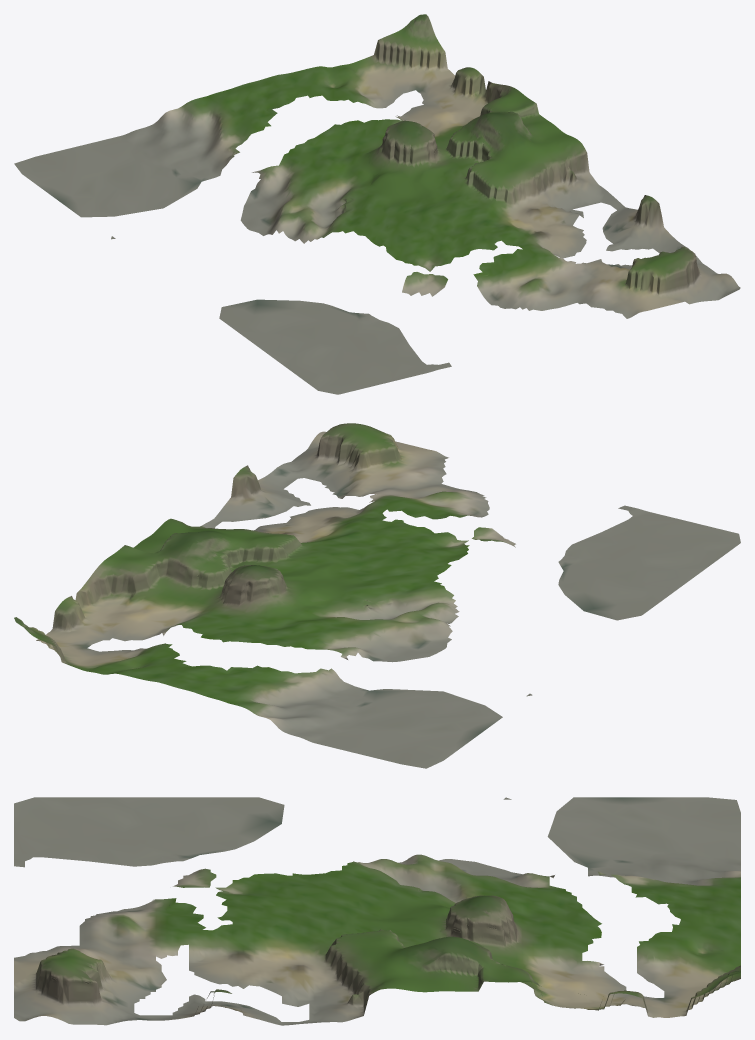
The model's file is coast_tile_x0z1_lod1.glb.
3 renders of one model, top to bottom at view 1: azimuth 30°, elevation 25°; view 2: azimuth 150°, elevation 25°; view 3: azimuth 270°, elevation 25°, orthographic. The views are drawn at different scales.
Visible parts, largest first — view 1: coast_tile_x0z1_lod1; view 2: coast_tile_x0z1_lod1; view 3: coast_tile_x0z1_lod1.
Boxes of the visible parts, x1,y1,x2,y2 form: coast_tile_x0z1_lod1: (14, 14, 740, 394); coast_tile_x0z1_lod1: (14, 423, 740, 768); coast_tile_x0z1_lod1: (14, 797, 740, 1025).
Size of the model in its own units: 600 by 71.53 by 798.
